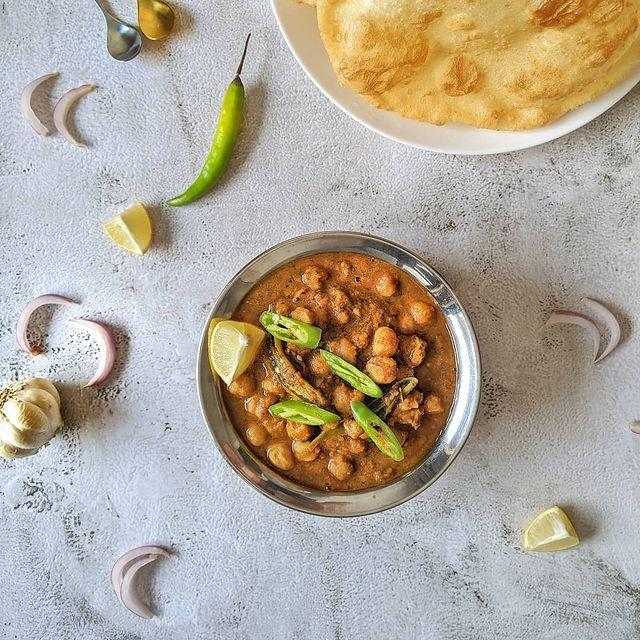Chole: (268, 274, 444, 487)
